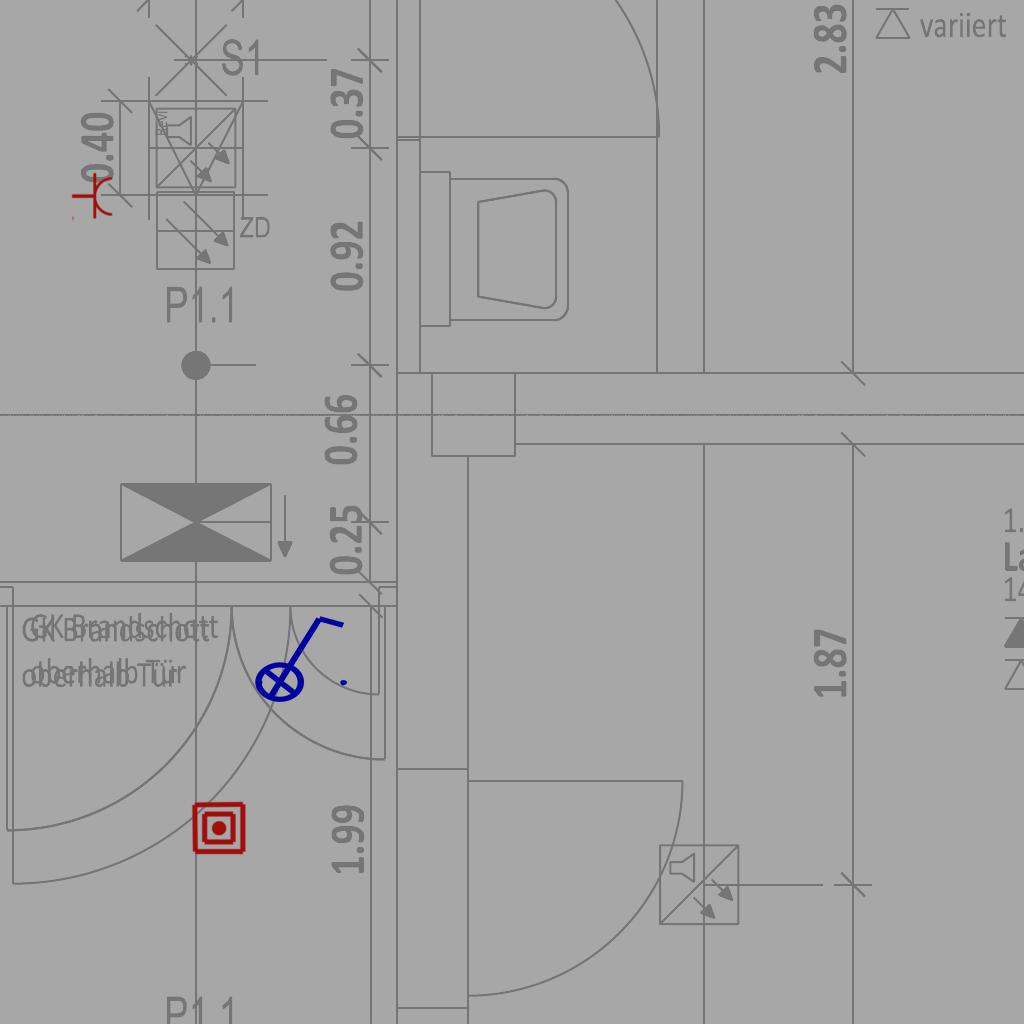Ausschalter_beleuchtet: (241, 608, 353, 704)
NAM-Nichtautomatischer_Melder: (191, 800, 247, 856)
Schukosteckdose_einfach: (71, 172, 114, 222)
